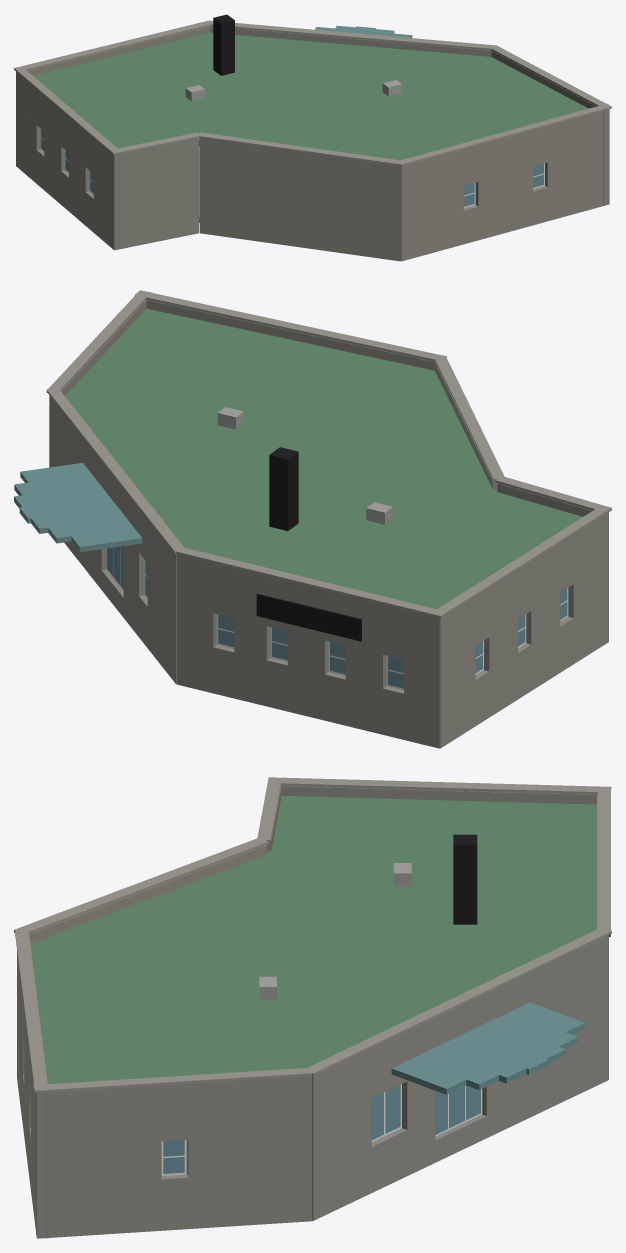
3 renders of one model, top to bottom at view 1: azimuth 30°, elevation 25°; view 2: azimuth 150°, elevation 25°; view 3: azimuth 270°, elevation 25°, orthographic. The views are drawn at different scales.
Visible parts, largest first — view 1: w191946662__stone-wall, w191946662__roof, w191946662__trim, w191946662__chimney-black, w191946662__glass, w191946662__ac, w191946662__copper-canopy; view 2: w191946662__roof, w191946662__stone-wall, w191946662__trim, w191946662__copper-canopy, w191946662__glass, w191946662__sign-black, w191946662__chimney-black, w191946662__frame, w191946662__ac; view 3: w191946662__roof, w191946662__stone-wall, w191946662__trim, w191946662__copper-canopy, w191946662__chimney-black, w191946662__glass, w191946662__door-glass, w191946662__ac, w191946662__frame.
Boxes of the visible parts, x1,y1,x2,y2 form: w191946662__stone-wall: (16, 26, 609, 261); w191946662__roof: (33, 32, 588, 160); w191946662__trim: (14, 20, 611, 166); w191946662__chimney-black: (213, 14, 234, 75); w191946662__glass: (41, 129, 543, 206); w191946662__ac: (185, 80, 402, 101); w191946662__copper-canopy: (315, 25, 412, 37); w191946662__roof: (65, 308, 582, 609); w191946662__stone-wall: (49, 300, 608, 748); w191946662__trim: (46, 290, 611, 618); w191946662__copper-canopy: (14, 463, 142, 552); w191946662__glass: (145, 561, 567, 688); w191946662__sign-black: (256, 593, 361, 641); w191946662__chimney-black: (269, 447, 298, 530); w191946662__frame: (106, 547, 568, 690); w191946662__ac: (217, 407, 392, 524); w191946662__roof: (30, 795, 596, 1084); w191946662__stone-wall: (17, 786, 608, 1238); w191946662__trim: (14, 777, 611, 1093); w191946662__copper-canopy: (391, 1002, 585, 1094); w191946662__chimney-black: (453, 834, 477, 924); w191946662__glass: (163, 1085, 400, 1173); w191946662__door-glass: (435, 1085, 480, 1134); w191946662__ac: (259, 863, 411, 1000); w191946662__frame: (161, 1084, 482, 1175).
Bounding box in the file's own units: 24.83 × 8 × 20.01.
